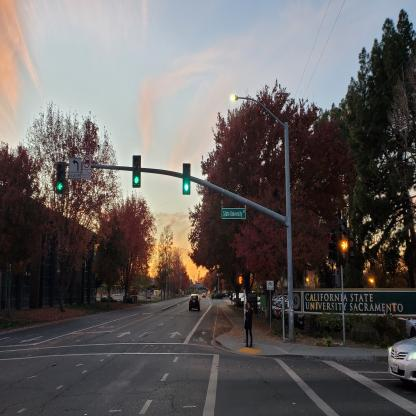green: (132, 155, 141, 188), (183, 163, 191, 195)
left-green: (56, 162, 66, 194)
